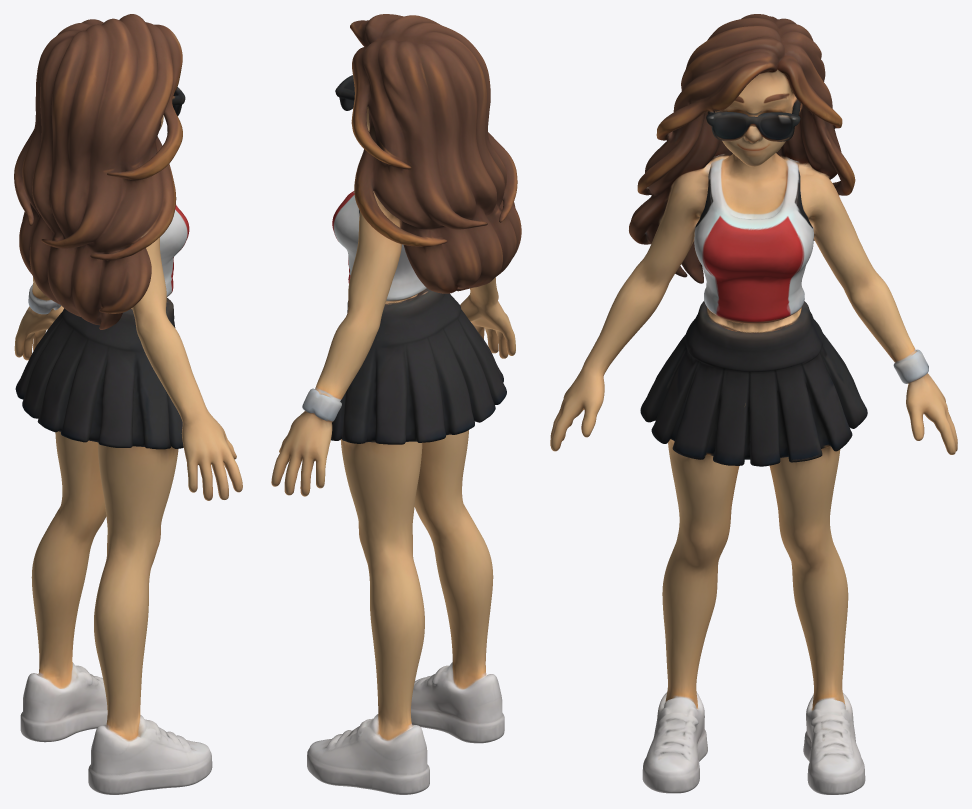
Rendered from girl.glb.
3 renders of one model, left to right at view 1: azimuth 30°, elevation 25°; view 2: azimuth 150°, elevation 25°; view 3: azimuth 270°, elevation 25°, orthographic. The views are drawn at different scales.
Parts seen in each view (by area): view 1: tripo_node_d543ab51-aae3-4697-800f-da8cff65ce99; view 2: tripo_node_d543ab51-aae3-4697-800f-da8cff65ce99; view 3: tripo_node_d543ab51-aae3-4697-800f-da8cff65ce99.
Part boxes in pixels (x1,y1,x2,y2): tripo_node_d543ab51-aae3-4697-800f-da8cff65ce99: [14, 14, 242, 794]; tripo_node_d543ab51-aae3-4697-800f-da8cff65ce99: [271, 14, 521, 794]; tripo_node_d543ab51-aae3-4697-800f-da8cff65ce99: [550, 14, 957, 794].
Bounding box in the file's own units: 0.0526 × 0.25 × 0.1238.
1 material, 1 textured.
